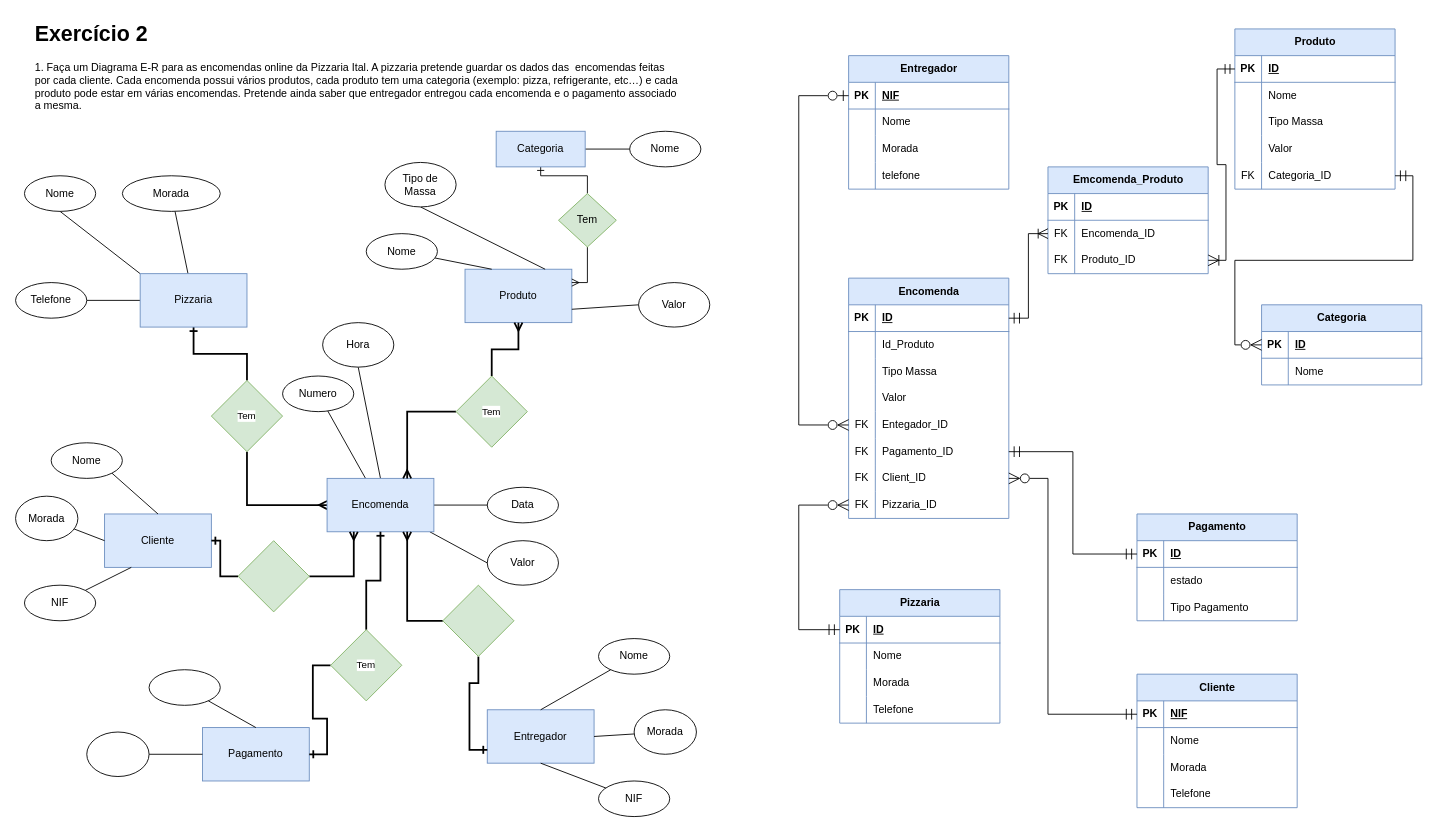
Image size: 1440x832. Some labels were removed from this diagram. Each missing label, with the centre of its shape:
"Atribute" goes at point (117, 754).
"E feita" goes at point (273, 576).
"Realizada" goes at point (478, 620).
"Tipo Pagemento" goes at point (184, 687).
